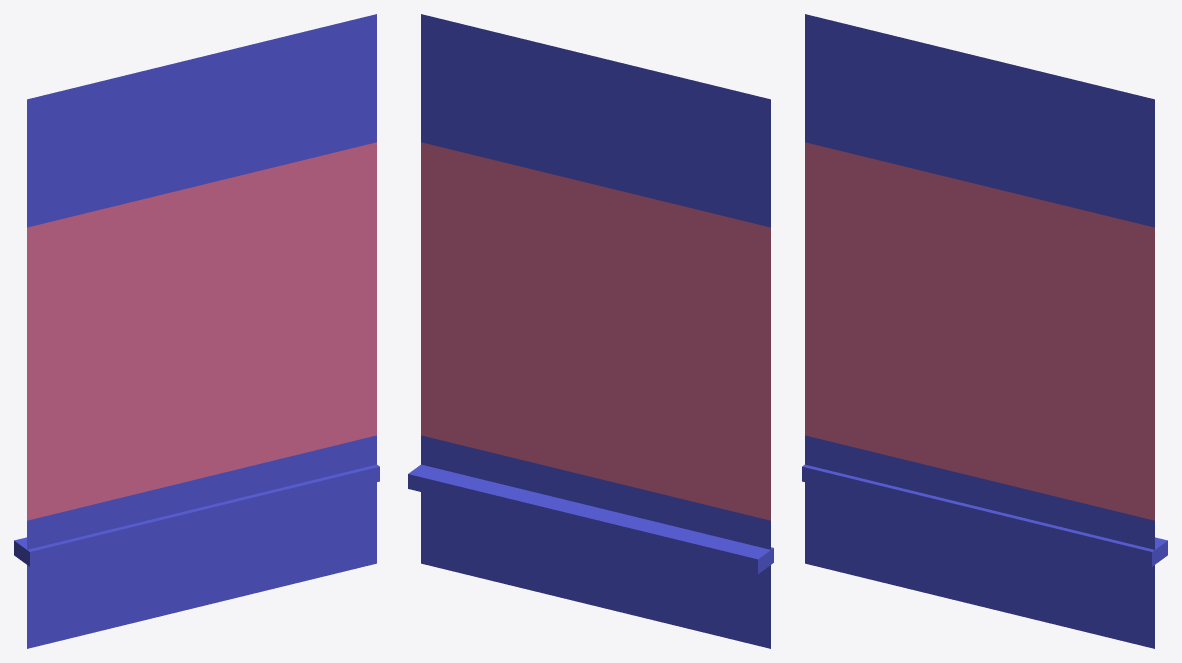
File: jp_wall_001.fbx
3 views of the same model, side by side, from view 1: azimuth 30°, elevation 25°; view 2: azimuth 150°, elevation 25°; view 3: azimuth 330°, elevation 25° (orthographic).
Parts seen in each view (by area): view 1: jp_wall_001; view 2: jp_wall_001; view 3: jp_wall_001.
Boxes of the visible parts, x1,y1,x2,y2 form: jp_wall_001: (14, 14, 379, 648); jp_wall_001: (408, 14, 773, 648); jp_wall_001: (802, 14, 1167, 648).
Size of the model in its own units: 2 by 3 by 0.1563.
